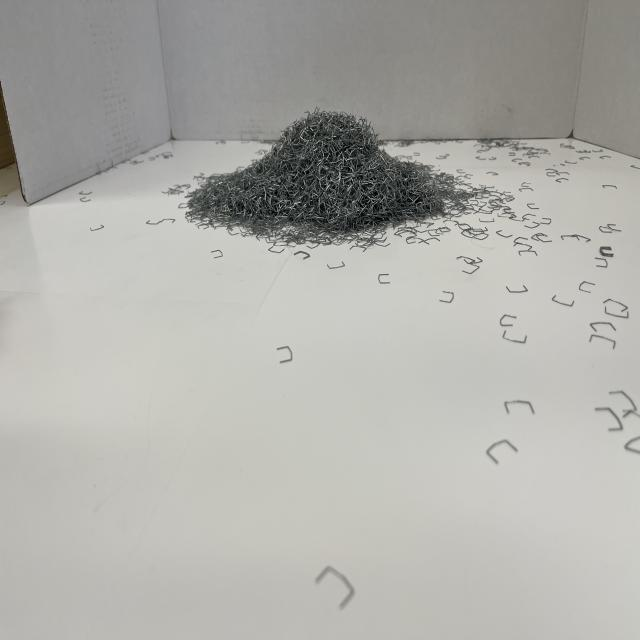staples: (182, 106, 450, 240)
